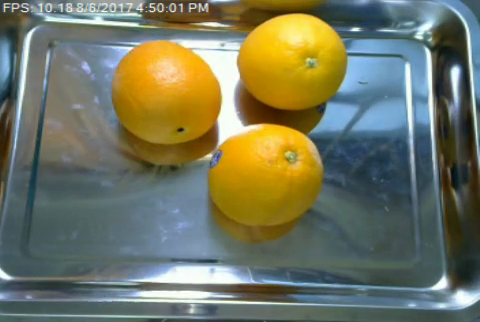Orange: (208, 122, 324, 225), (109, 41, 220, 141), (236, 11, 346, 107)
